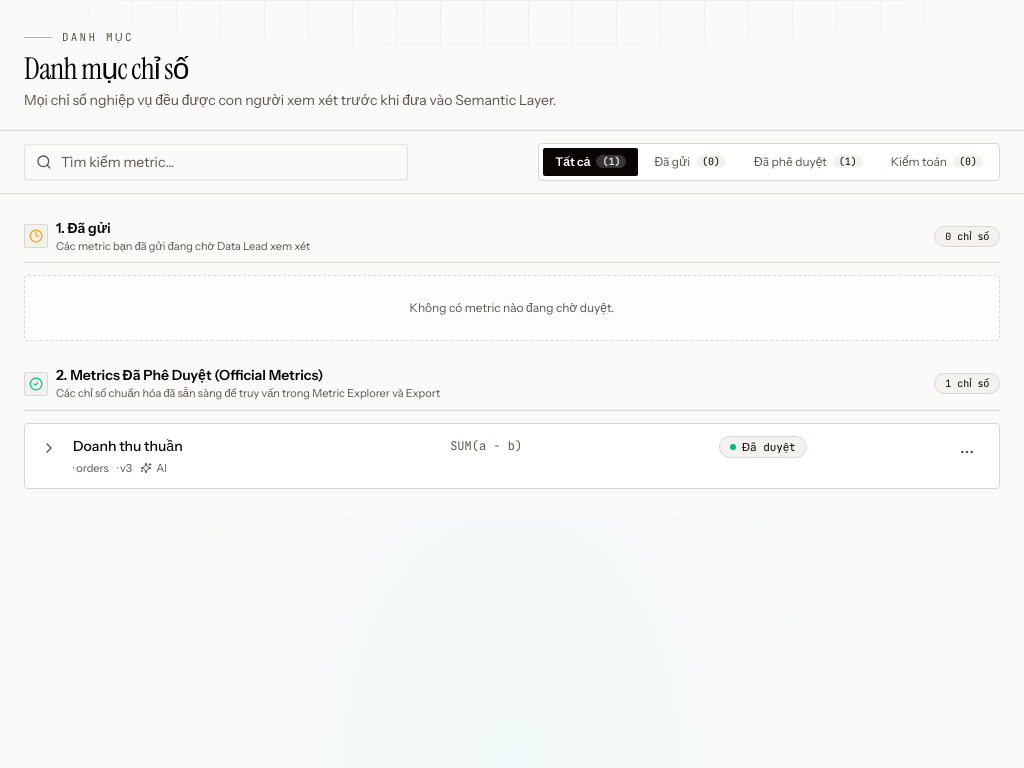
Test: MetricsCatalogView history modal › hides rollback for roles without manage capability
Click the heading named "Thao tác với" at (967, 452), box [959, 444, 975, 460]
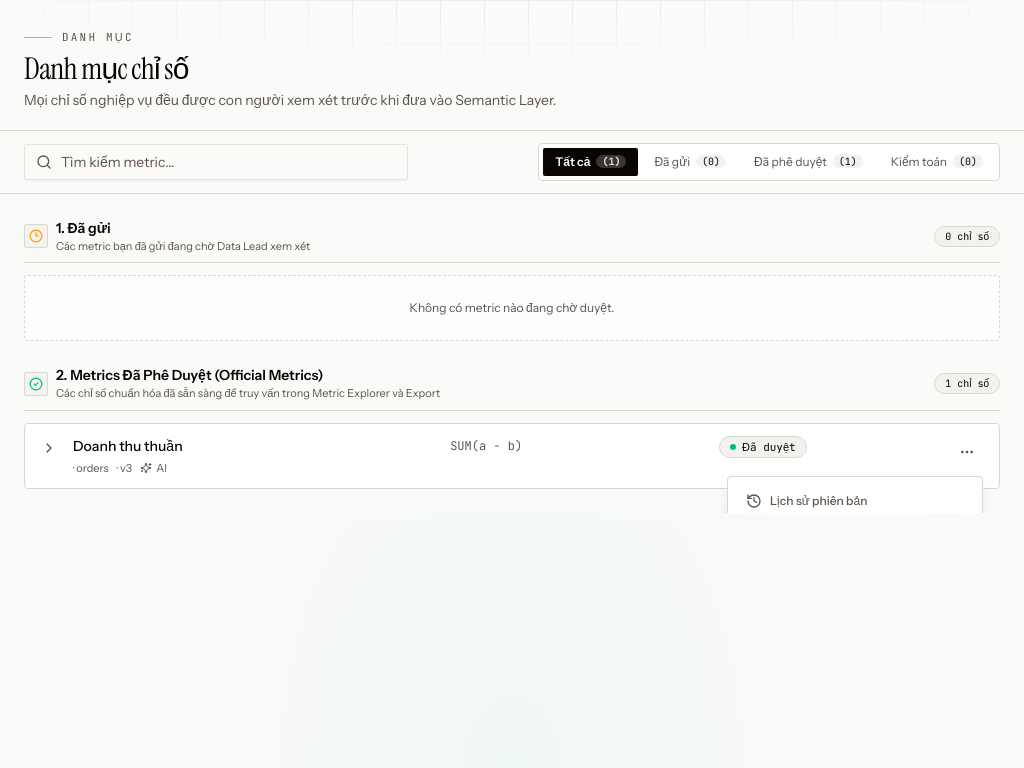
Click the button titled "Xem lịch sử phiên bản" at (855, 501), box [736, 485, 974, 517]
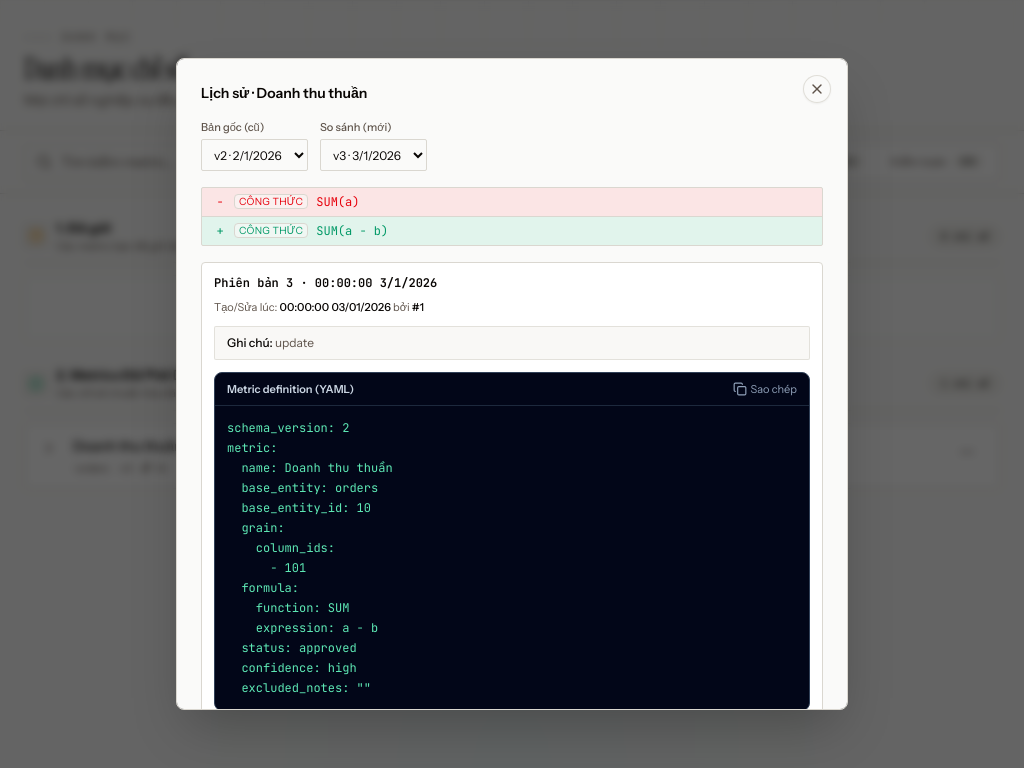
Expected: the dialog is shown, [176, 58, 848, 710]
